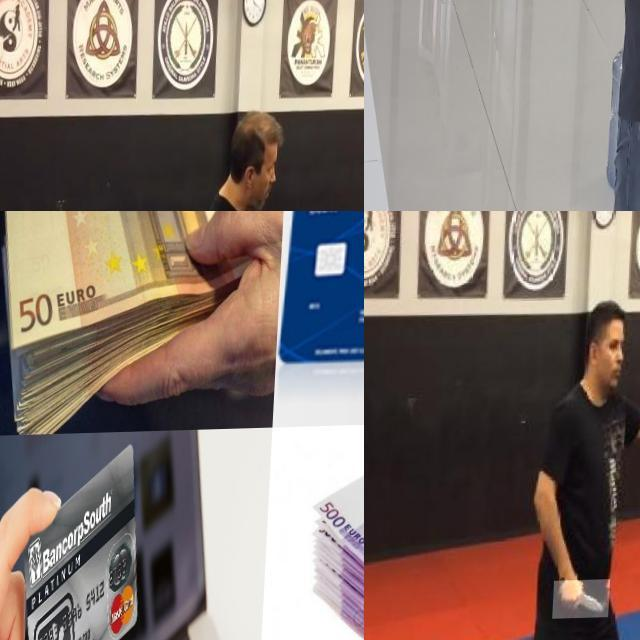-: (558, 582, 614, 620)
